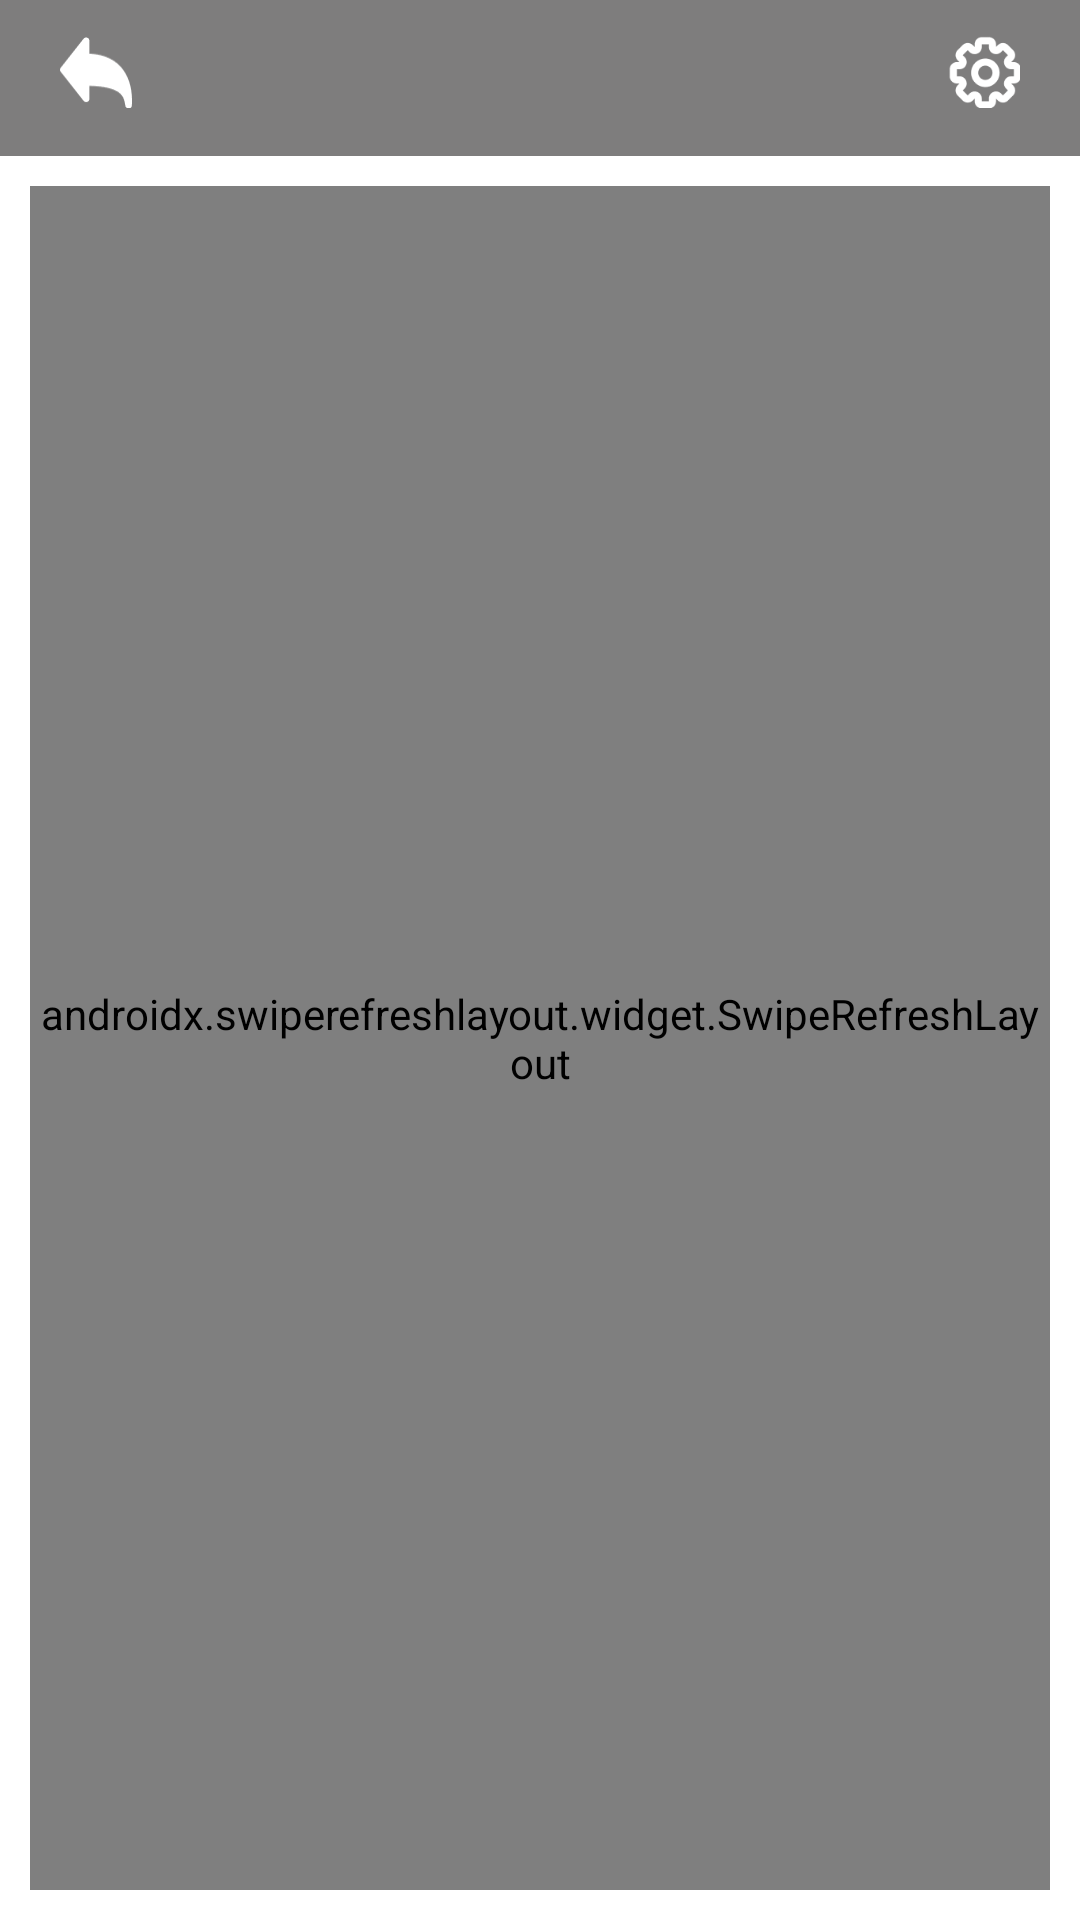

Where to tap for icons on this 1080 × 1920 app screen, as (x=x, y=y):
sidebar setting: (x=984, y=72)
